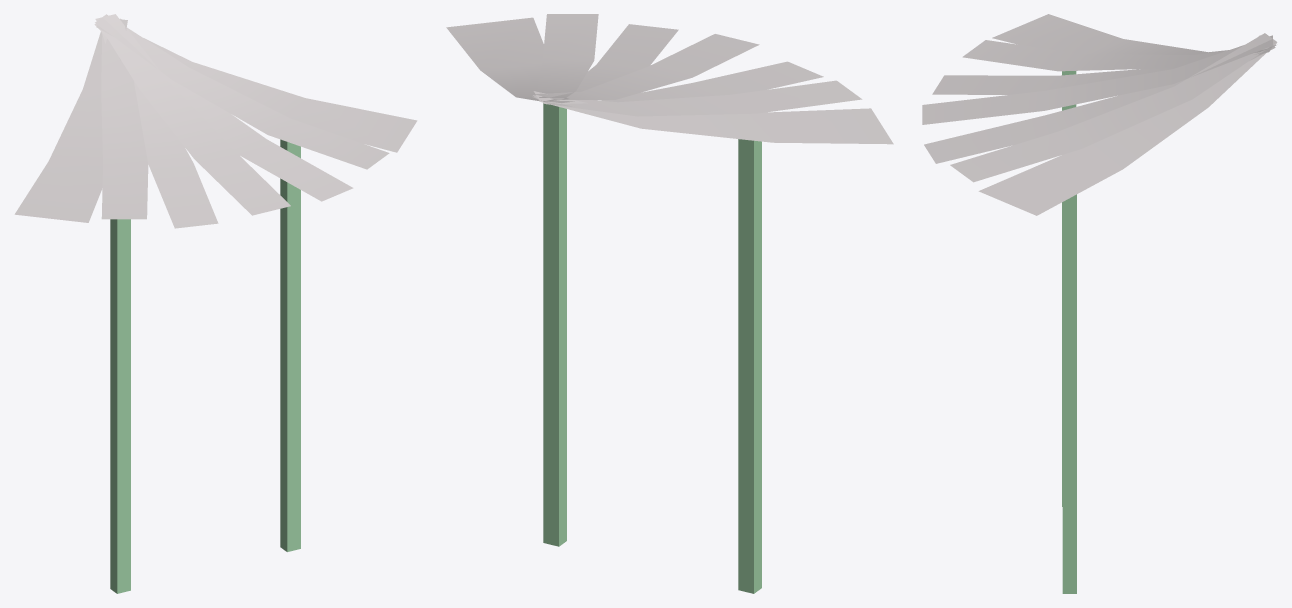
The picture shows the model from 3 angles, left to right: view 1: azimuth 30°, elevation 25°; view 2: azimuth 150°, elevation 25°; view 3: azimuth 270°, elevation 25°; orthographic projection. The views are drawn at different scales.
Parts seen in each view (by area): view 1: Object09; view 2: Object09; view 3: Object09.
Boxes of the visible parts, bbox=[...] form: Object09: bbox=[14, 14, 417, 593]; Object09: bbox=[446, 14, 893, 593]; Object09: bbox=[922, 14, 1277, 593].
Bounding box in the file's own units: 225 × 261 × 166.
